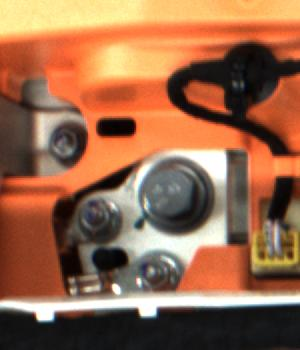nut_b: (138, 148, 215, 240)
